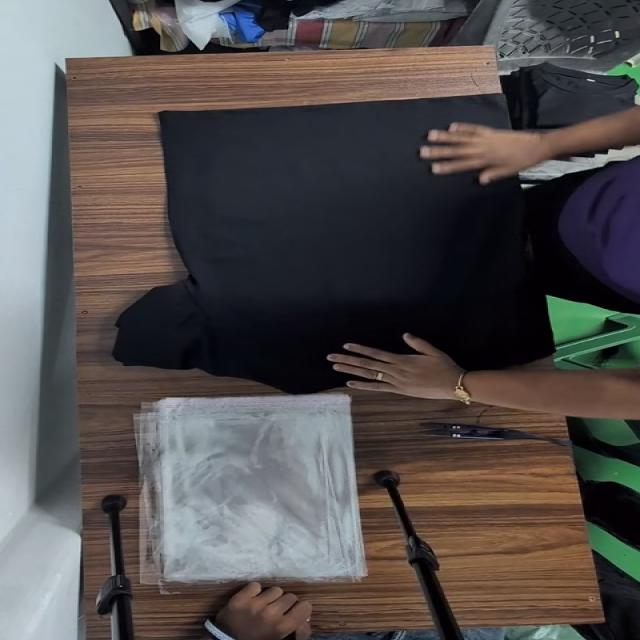new-garment: (113, 95, 552, 393)
